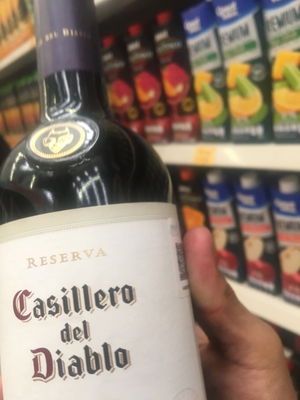casillero del diablo merlot: (1, 7, 208, 400)
